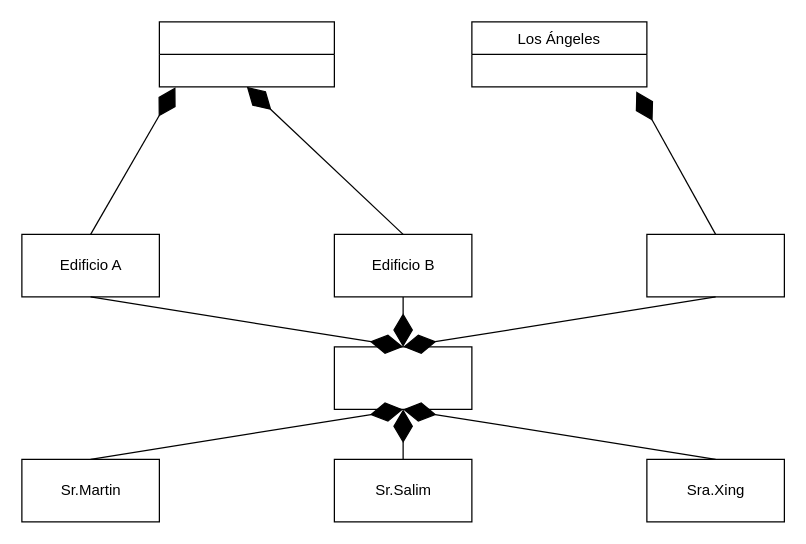
This 806x544 diagram has some shape labels left out. The box of each missing label's shape, as (x1, y1, x2, y2) in pixels:
Edificio C: (646, 233, 784, 297)
New York: (158, 21, 334, 87)
YooHoo!: (333, 346, 472, 409)
